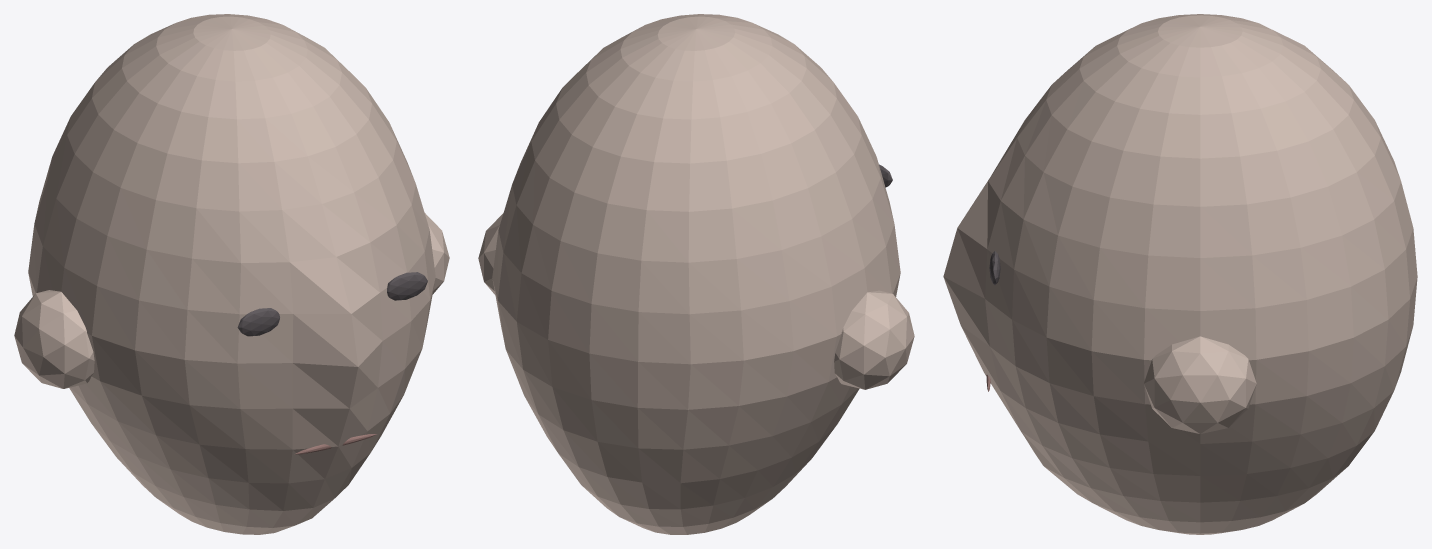
The model's file is neutral.glb.
The picture shows the model from 3 angles, left to right: view 1: azimuth 30°, elevation 25°; view 2: azimuth 150°, elevation 25°; view 3: azimuth 270°, elevation 25°; orthographic projection.
Parts seen in each view (by area): view 1: face.head, face.ear.left, face.ear.right, face.eye.left, face.eye.right; view 2: face.head, face.ear.left, face.ear.right; view 3: face.head, face.ear.right.
Part boxes in pixels (<box>): face.head: <box>28,14,435,534</box>; face.ear.left: <box>14,290,94,388</box>; face.ear.right: <box>424,213,449,294</box>; face.eye.left: <box>237,308,279,336</box>; face.eye.right: <box>387,272,427,300</box>; face.head: <box>492,14,900,534</box>; face.ear.left: <box>834,290,914,389</box>; face.ear.right: <box>478,213,503,295</box>; face.head: <box>943,14,1417,534</box>; face.ear.right: <box>1144,336,1256,433</box>.
Bounding box in the file's own units: 0.21 × 0.236 × 0.2029.
